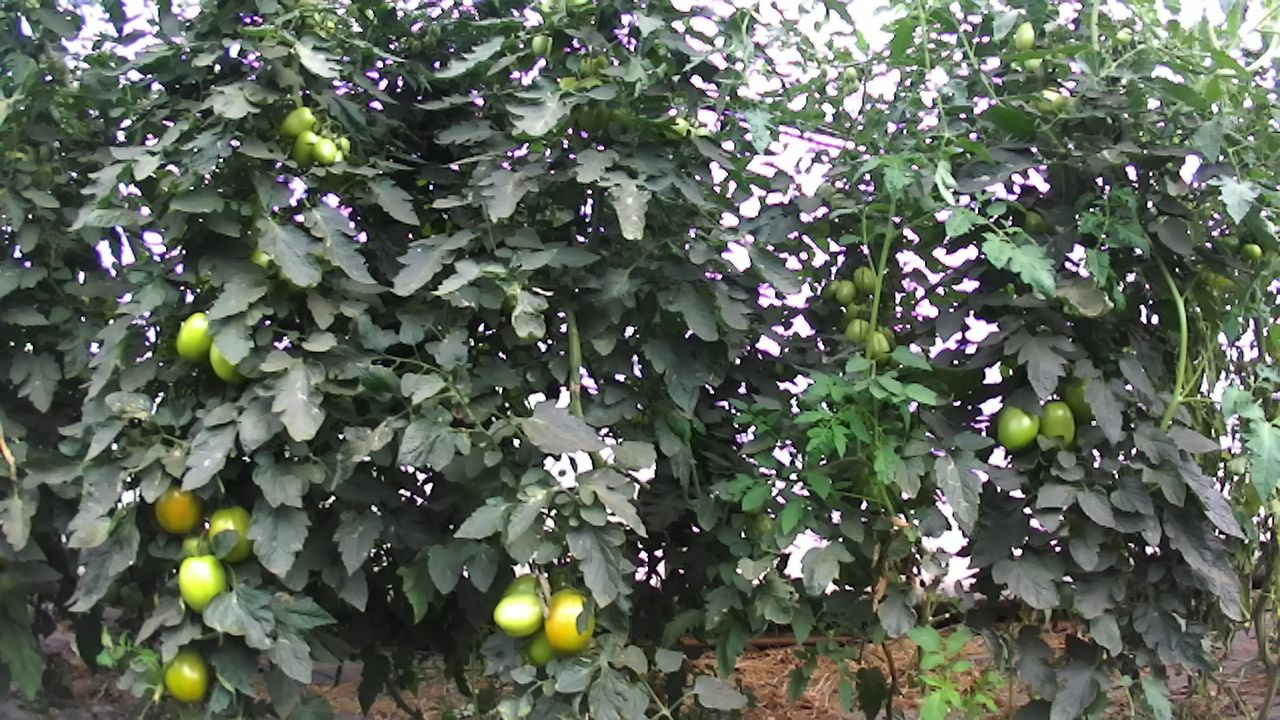tomato: (540, 585, 596, 652), (491, 571, 544, 639), (175, 553, 231, 616), (160, 645, 212, 706), (206, 496, 254, 562), (153, 484, 204, 537), (995, 402, 1041, 454), (174, 310, 213, 365), (1039, 398, 1078, 446), (276, 103, 317, 141), (288, 128, 322, 172), (864, 329, 892, 366), (1012, 18, 1037, 52), (851, 264, 877, 296), (843, 316, 871, 344), (312, 136, 338, 166), (834, 278, 857, 308), (531, 32, 548, 56)
